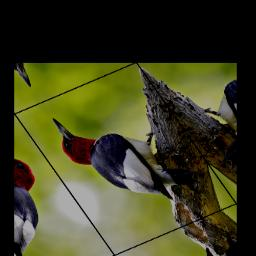Woodpecker: (45, 84, 208, 224)
